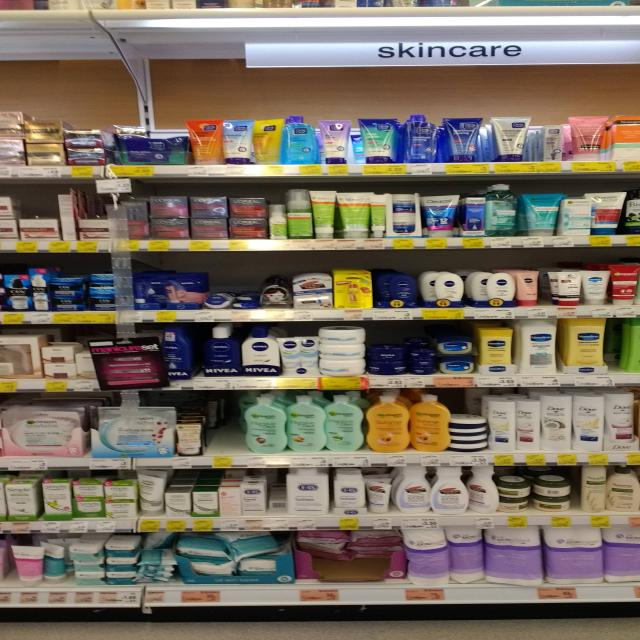100- O.O.S: (216, 414, 238, 466)
